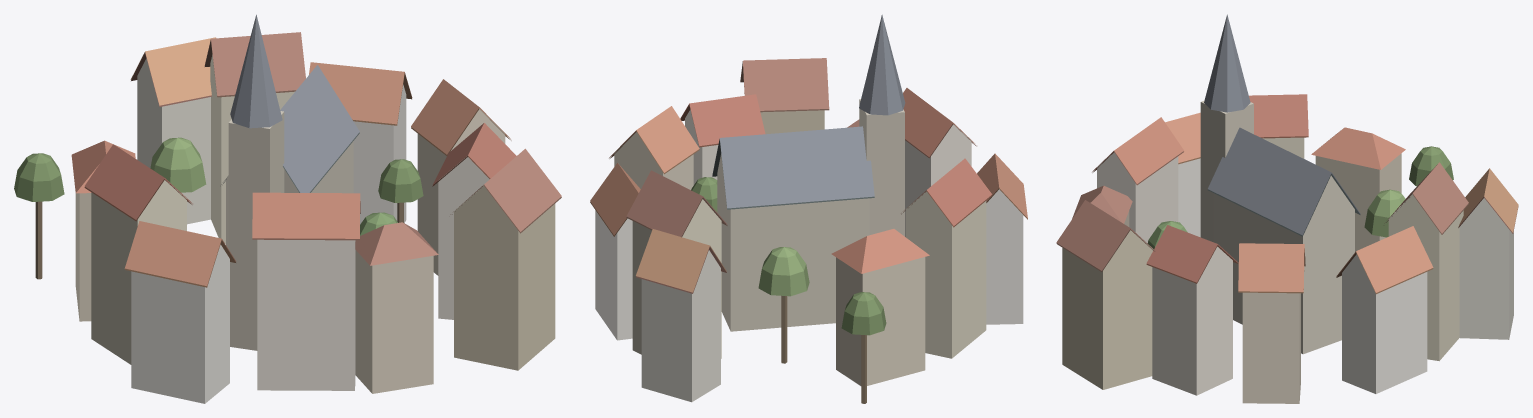
Rendered from town_b.glb.
The picture shows the model from 3 angles, left to right: view 1: azimuth 30°, elevation 25°; view 2: azimuth 150°, elevation 25°; view 3: azimuth 270°, elevation 25°; orthographic projection. The views are drawn at different scales.
Visible parts, largest first — view 1: town_b; view 2: town_b; view 3: town_b.
Part boxes in pixels (box(x1,y1,x2,y2)): town_b: box(14, 14, 561, 403); town_b: box(590, 14, 1027, 403); town_b: box(1056, 14, 1518, 403).
Bounding box in the file's own units: 23.89 × 18.12 × 27.01.
